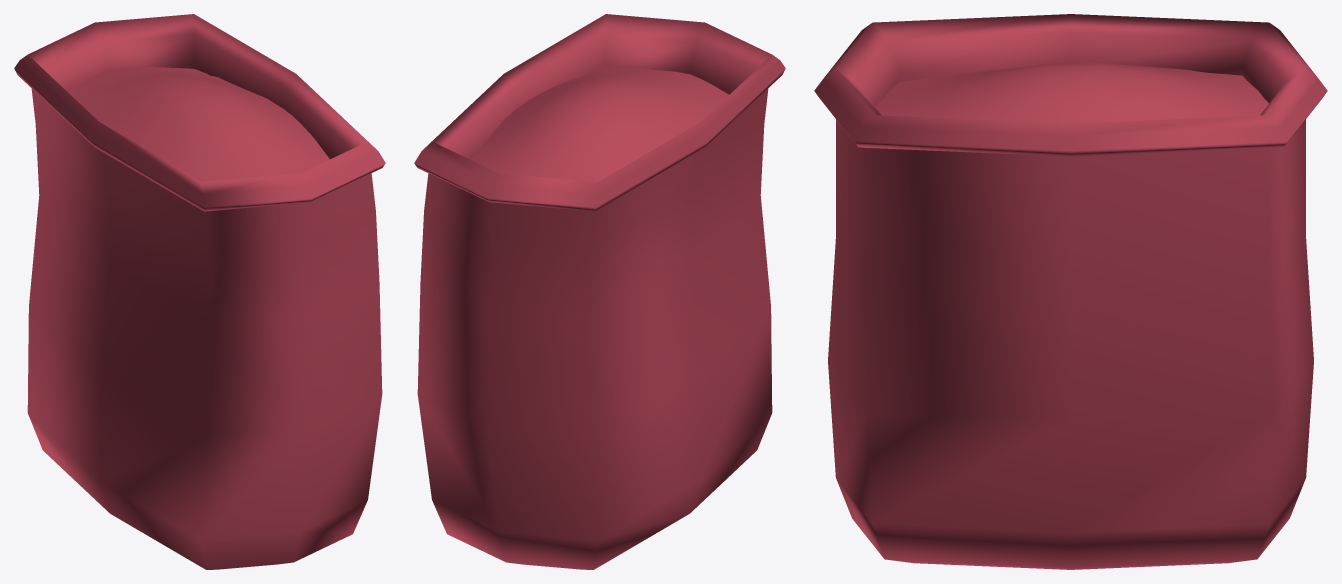
The model's file is flour_bag_02.fbx.
3 renders of one model, left to right at view 1: azimuth 30°, elevation 25°; view 2: azimuth 150°, elevation 25°; view 3: azimuth 270°, elevation 25°, orthographic. The views are drawn at different scales.
Parts seen in each view (by area): view 1: flour_bags2; view 2: flour_bags2; view 3: flour_bags2.
Boxes of the visible parts, x1,y1,x2,y2 form: flour_bags2: (14, 14, 385, 569); flour_bags2: (414, 14, 785, 569); flour_bags2: (814, 14, 1327, 569).
Size of the model in its own units: 0.3817 by 0.6896 by 0.6879.
